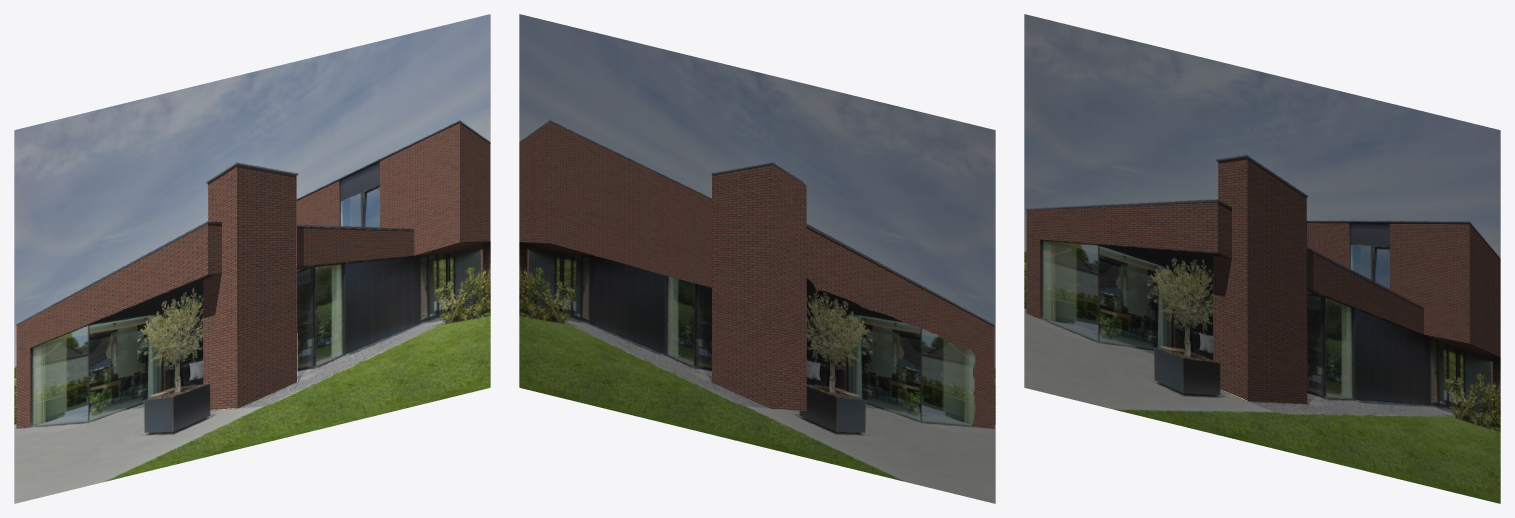
File: place-fabrika.glb
3 renders of one model, left to right at view 1: azimuth 30°, elevation 25°; view 2: azimuth 150°, elevation 25°; view 3: azimuth 330°, elevation 25°, orthographic.
Visible parts, largest first — view 1: Plane.010; view 2: Plane.010; view 3: Plane.010.
Part boxes in pixels (bbox=[...]): Plane.010: bbox=[14, 14, 490, 503]; Plane.010: bbox=[519, 14, 995, 503]; Plane.010: bbox=[1024, 14, 1500, 503].
Bounding box in the file's own units: 1.33 × 0.9999 × 0.00279.
Materials: 5 (2 with a texture image).
